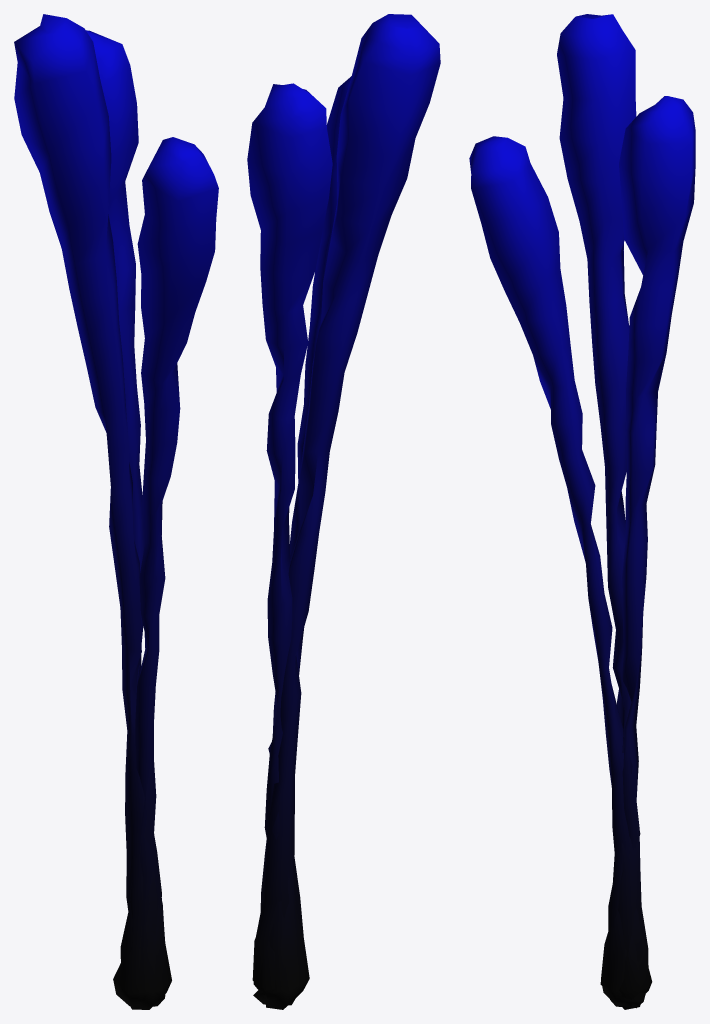
Rendered from Orchid_Pistils_mesh.fbx.
3 views of the same model, side by side, from view 1: azimuth 30°, elevation 25°; view 2: azimuth 150°, elevation 25°; view 3: azimuth 270°, elevation 25° (orthographic). The views are drawn at different scales.
Parts seen in each view (by area): view 1: MESH; view 2: MESH; view 3: MESH.
Boxes of the visible parts, x1,y1,x2,y2 form: MESH: (14,14,218,1009); MESH: (247,14,440,1009); MESH: (469,14,695,1009).
Bounding box in the file's own units: 2.74 × 16.62 × 3.6.
